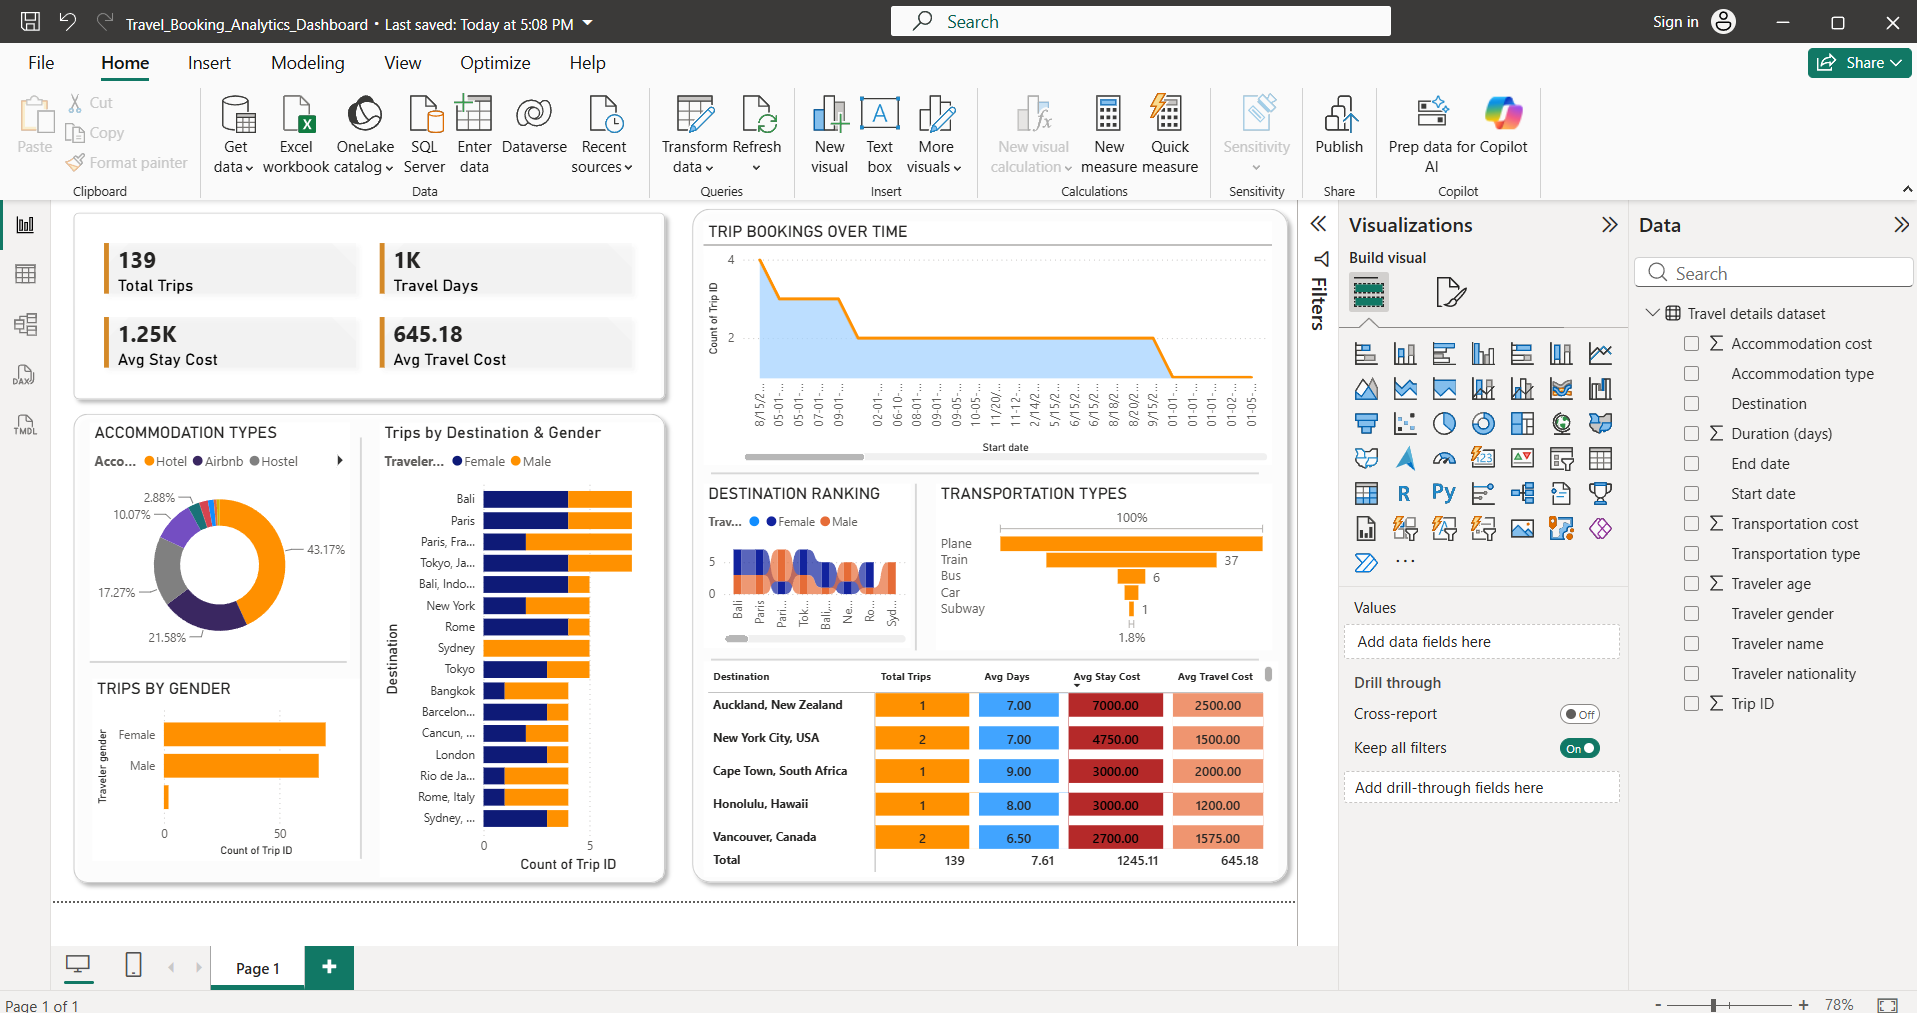

The page's visual inventory and layout, read from the dashboard file:
{"tool":"powerbi","page":{"name":"Page 1","canvas":[1280,720],"ordinal":0},"visuals":[{"type":"shape","box":[14.3,4.3,625.7,210],"z":0},{"type":"cardVisual","fields":{"Data":["CountNonNull(Travel details dataset.Trip ID)","Sum(Travel details dataset.Duration (days))","Avg(Travel details dataset.Accommodation cost)","Avg(Travel details dataset.Transportation cost)"]},"box":[26,16,601,187],"z":1000},{"type":"shape","box":[14.3,210,625.7,500],"z":2000},{"type":"donutChart","title":"ACCOMMODATION TYPES","fields":{"Category":["Travel details dataset.Accommodation type"],"Y":["CountNonNull(Travel details dataset.Trip ID)"]},"box":[40,228.6,267.1,244.3],"z":3000},{"type":"clusteredBarChart","title":"TRIPS BY GENDER","fields":{"Category":["Travel details dataset.Traveler gender"],"Y":["CountNonNull(Travel details dataset.Trip ID)"]},"box":[42.9,491.4,275.7,187.1],"z":4000},{"type":"barChart","title":"Trips by Destination & Gender","fields":{"Category":["Travel details dataset.Destination"],"Y":["CountNonNull(Travel details dataset.Trip ID)"],"Series":["Travel details dataset.Traveler gender"]},"box":[337.1,228.6,290,467.1],"z":5000},{"type":"shape","box":[294.3,244.3,48.6,432.9],"z":6000},{"type":"shape","box":[40,448.6,264.3,52.9],"z":7000},{"type":"shape","box":[650,0,630,710],"z":8000},{"type":"stackedAreaChart","title":"TRIP BOOKINGS OVER TIME","fields":{"Category":["Travel details dataset.Start date"],"Y":["CountNonNull(Travel details dataset.Trip ID)"]},"box":[670,21.4,584.3,250],"z":9000},{"type":"ribbonChart","title":"DESTINATION RANKING","fields":{"Y":["CountNonNull(Travel details dataset.Trip ID)"],"Category":["Travel details dataset.Destination"],"Series":["Travel details dataset.Traveler gender"]},"box":[670,291.4,212.9,168.6],"z":10000},{"type":"funnel","title":"TRANSPORTATION TYPES","fields":{"Category":["Travel details dataset.Transportation type"],"Y":["CountNonNull(Travel details dataset.Trip ID)"]},"box":[908.6,291.4,345.7,171.4],"z":11000},{"type":"pivotTable","fields":{"Rows":["Travel details dataset.Destination"],"Values":["CountNonNull(Travel details dataset.Trip ID)","Avg(Travel details dataset.Duration (days))","Avg(Travel details dataset.Accommodation cost)","Avg(Travel details dataset.Transportation cost)"]},"box":[670,474.3,590,221.4],"z":12000},{"type":"shape","box":[864.3,291.4,48.6,171.4],"z":12001},{"type":"shape","box":[678.6,252.9,562.9,55.7],"z":12002},{"type":"shape","box":[678.6,444.3,562.9,55.7],"z":12003}]}

Visuals, with their boxes on the page's 1280x720 design canvas (x1, y1, x2, y2). These are canvas units, not pixel positions in the 1917x1013 screenshot, which may show the page scaled, cropped or inside an application window:
shape: detection(14, 4, 640, 214)
cardVisual - CountNonNull(Travel details dataset.Trip ID) x Sum(Travel details dataset.Duration (days)): detection(26, 16, 627, 203)
shape: detection(14, 210, 640, 710)
"ACCOMMODATION TYPES" donutChart: detection(40, 229, 307, 473)
"TRIPS BY GENDER" clusteredBarChart: detection(43, 491, 319, 678)
"Trips by Destination & Gender" barChart: detection(337, 229, 627, 696)
shape: detection(294, 244, 343, 677)
shape: detection(40, 449, 304, 502)
shape: detection(650, 0, 1280, 710)
"TRIP BOOKINGS OVER TIME" stackedAreaChart: detection(670, 21, 1254, 271)
"DESTINATION RANKING" ribbonChart: detection(670, 291, 883, 460)
"TRANSPORTATION TYPES" funnel: detection(909, 291, 1254, 463)
pivotTable - Travel details dataset.Destination x CountNonNull(Travel details dataset.Trip ID): detection(670, 474, 1260, 696)
shape: detection(864, 291, 913, 463)
shape: detection(679, 253, 1242, 309)
shape: detection(679, 444, 1242, 500)
